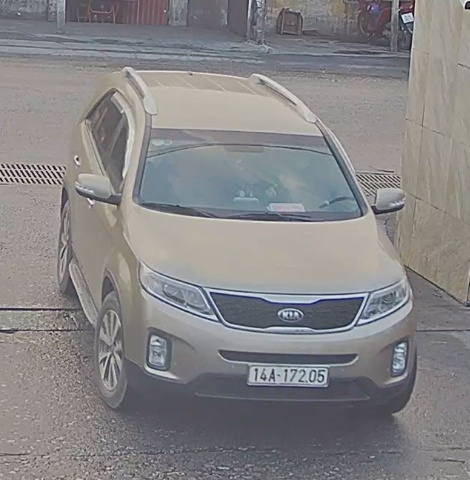vehicle plate: (242, 361, 335, 391)
